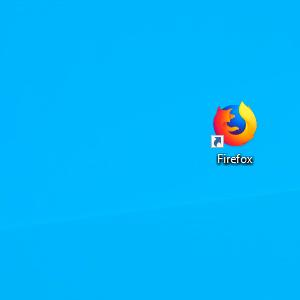firefox: (211, 101, 257, 149)
